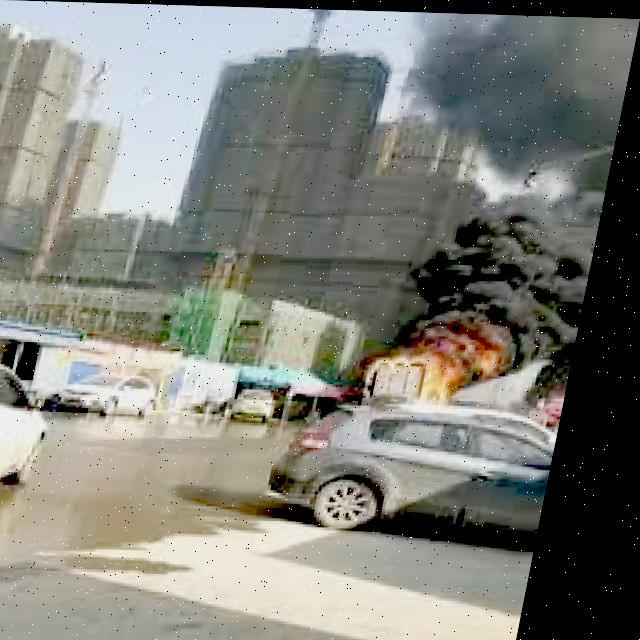Fire: (363, 322, 546, 434)
